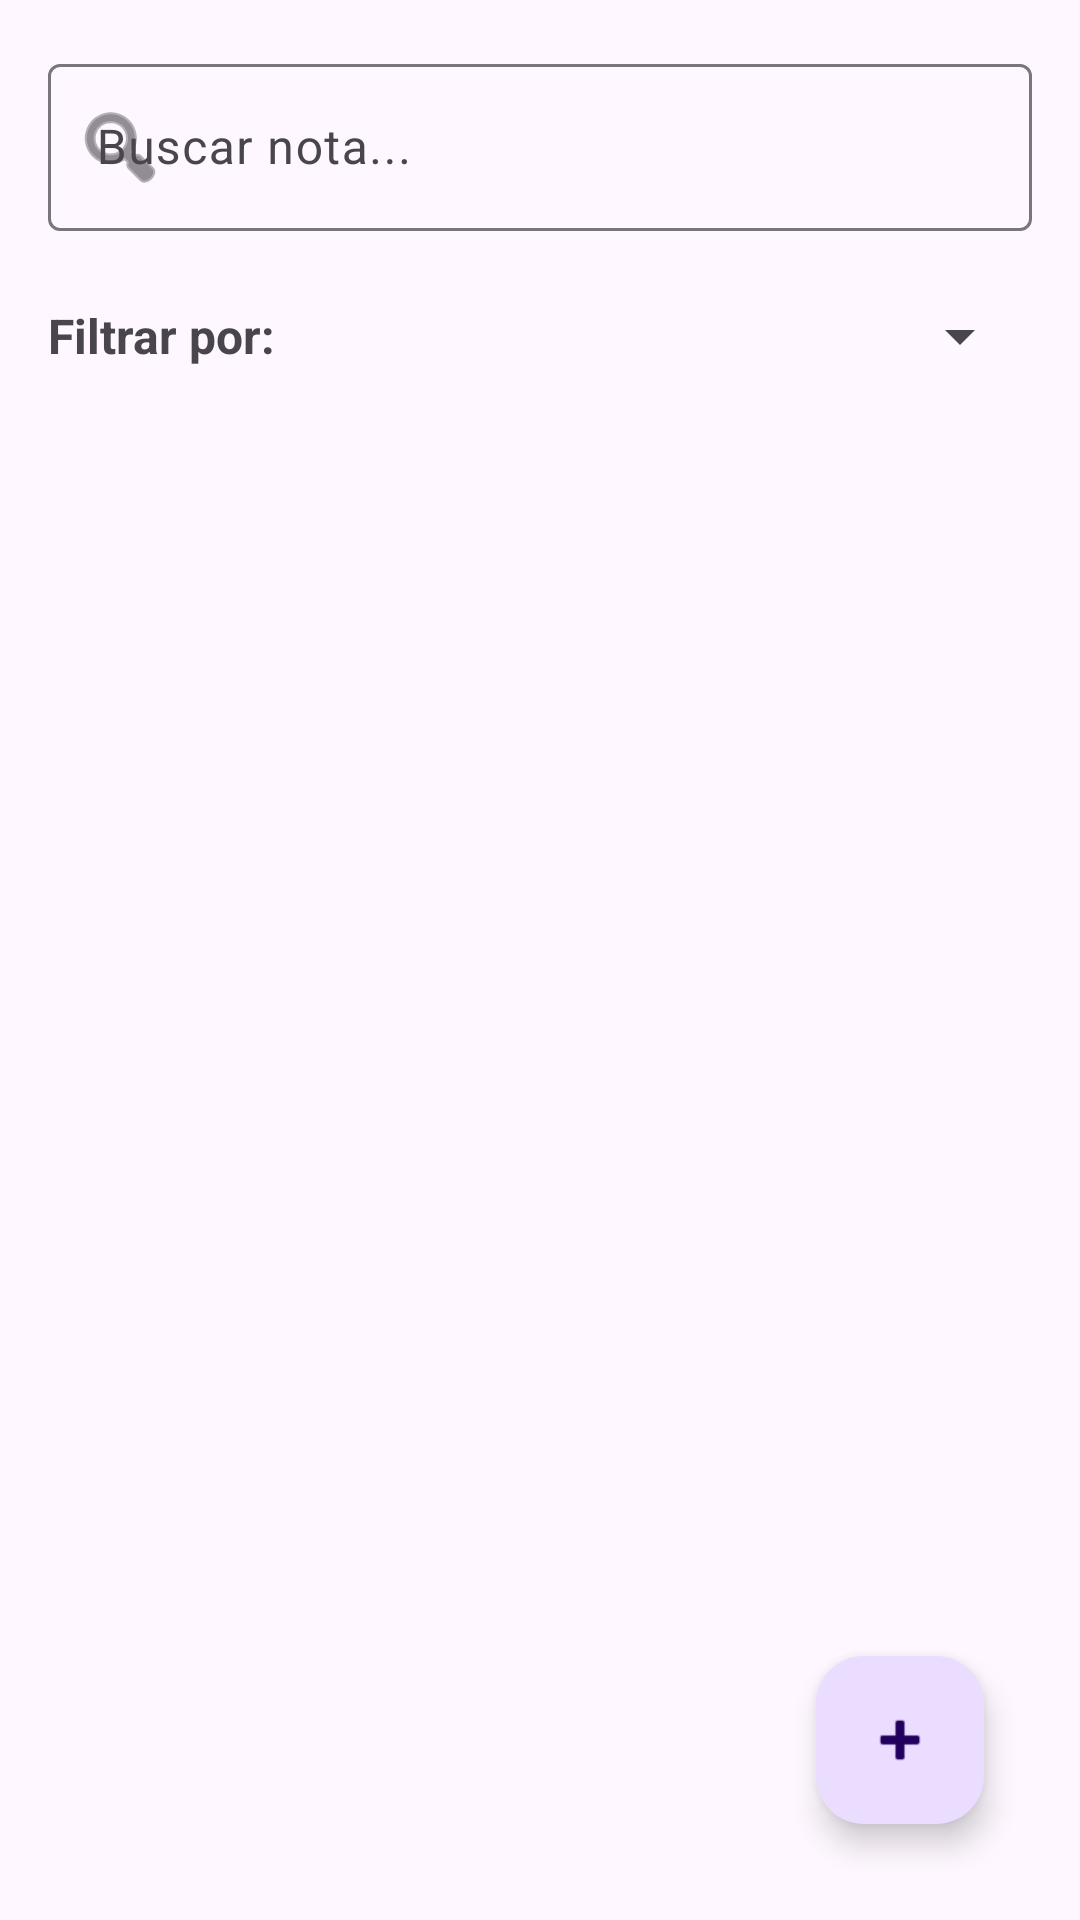

Icons on this 1080px×1920px Android screen, each with its box as (x1, y1, x2, y2):
add: (816, 1656, 984, 1824)
